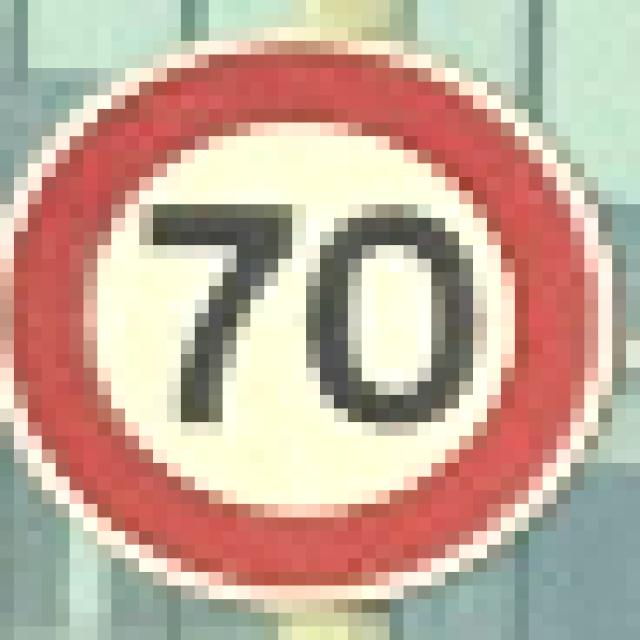speed_70: (0, 0, 626, 626)
